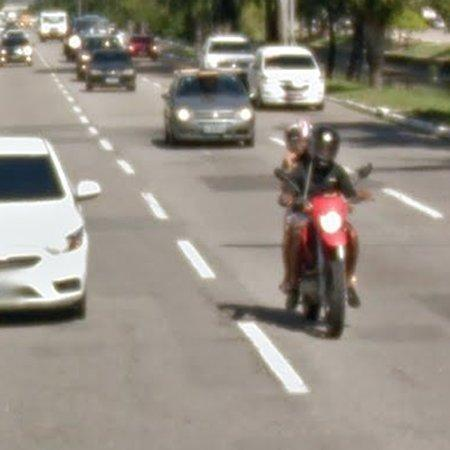motorcycles: (301, 192, 350, 338)
